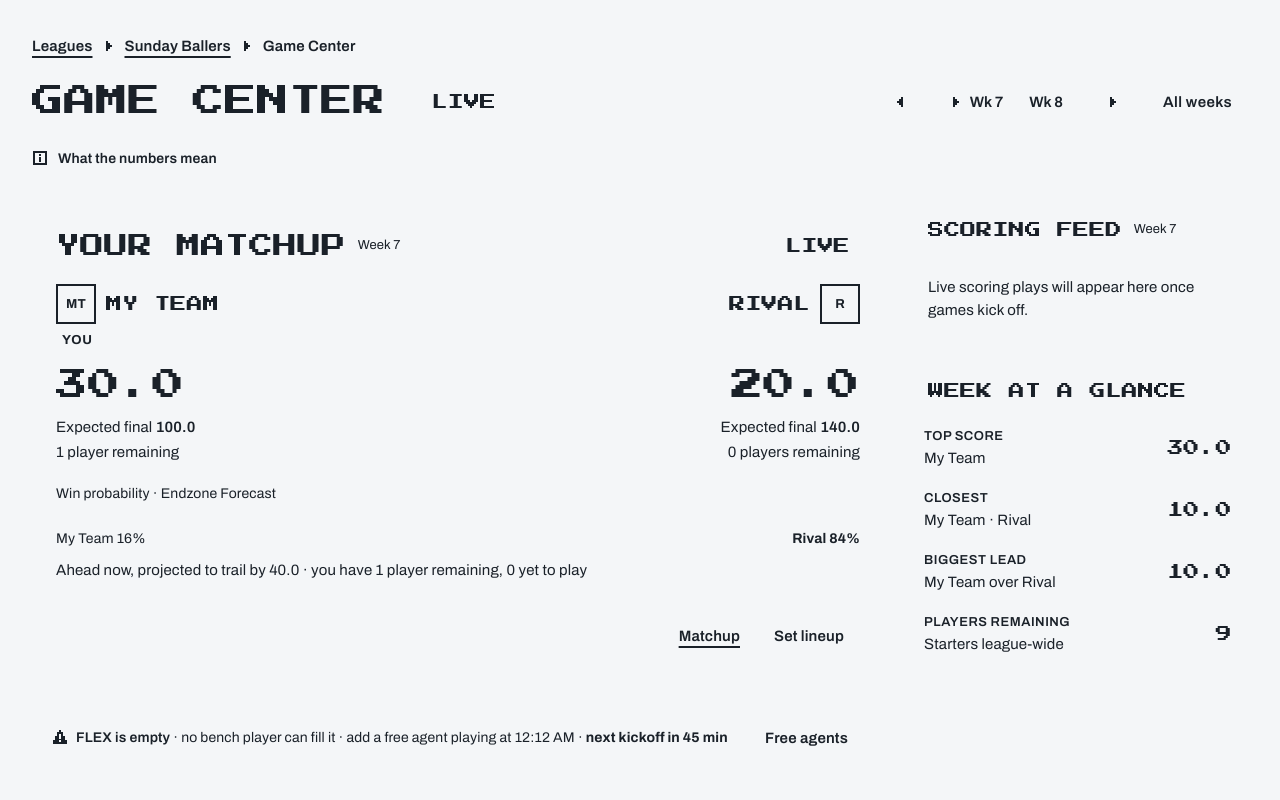
Test: Play-select › the lineup note shows only for the league's current week: Wk 8 while the current week is 7 has none
The image size is (1280, 800).
Expected: the element with test id "lineup-note" is shown, [52,729,848,746]
Click the radio button labelled "Wk 8". click: (1046, 102)
box: [1015,80,1077,124]
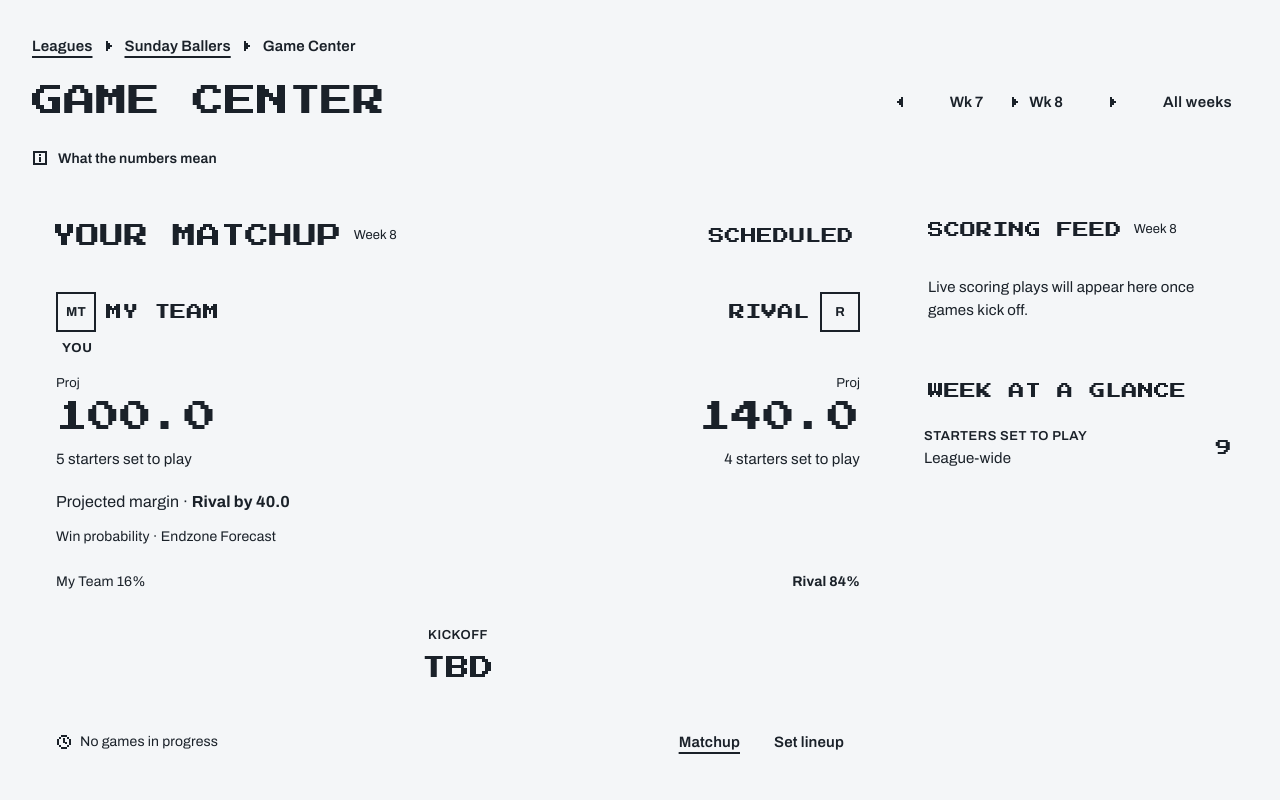
Now the element with test id "lineup-note" is gone
Click the radio button labelled "Wk 7". click: (966, 102)
box: [936,80,997,124]
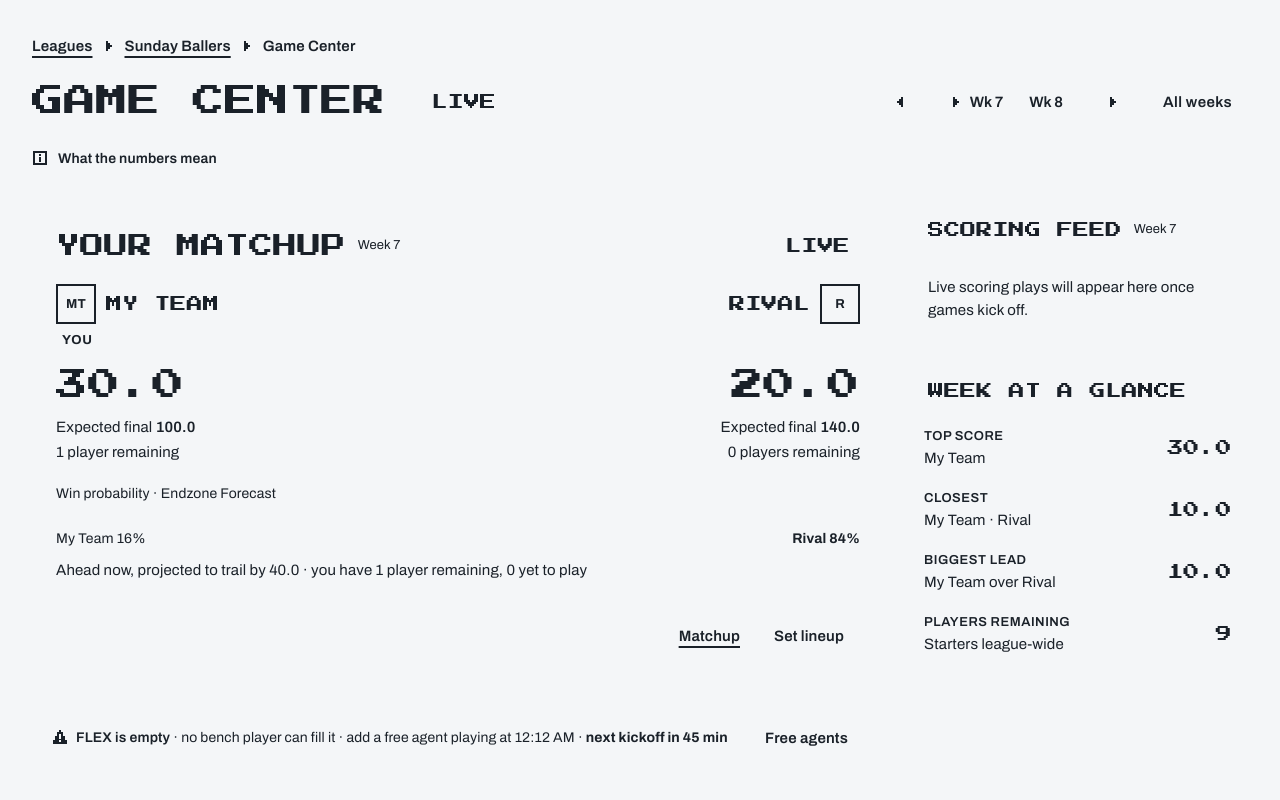
Now the element with test id "lineup-note" is shown, box [52,729,848,746]
